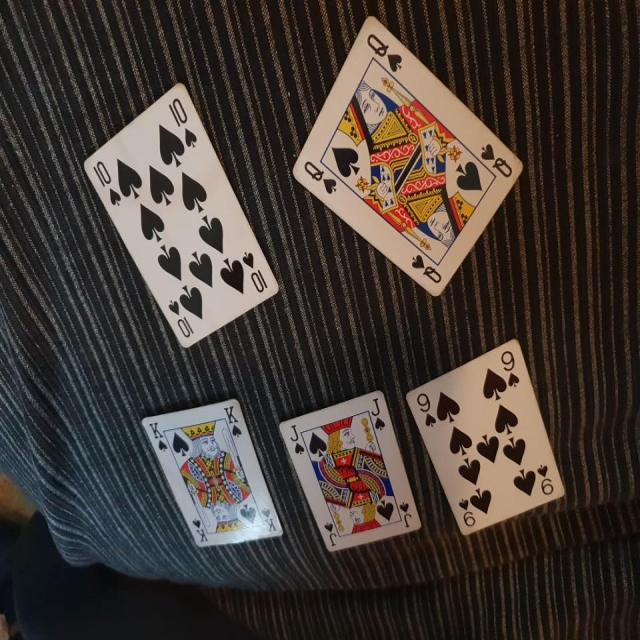10 Spades: (79, 76, 283, 344)
9 Spades: (398, 335, 567, 542)
J Spades: (271, 385, 426, 558)
K Spades: (142, 394, 285, 552)
Q Spades: (289, 10, 524, 301)
